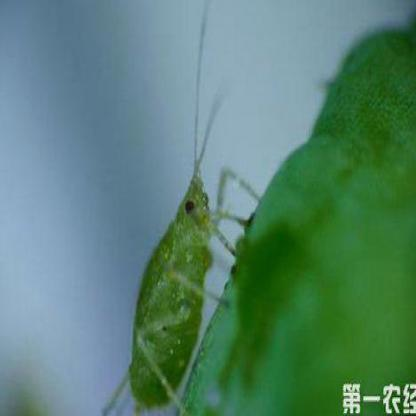aphid: (124, 24, 256, 416)
